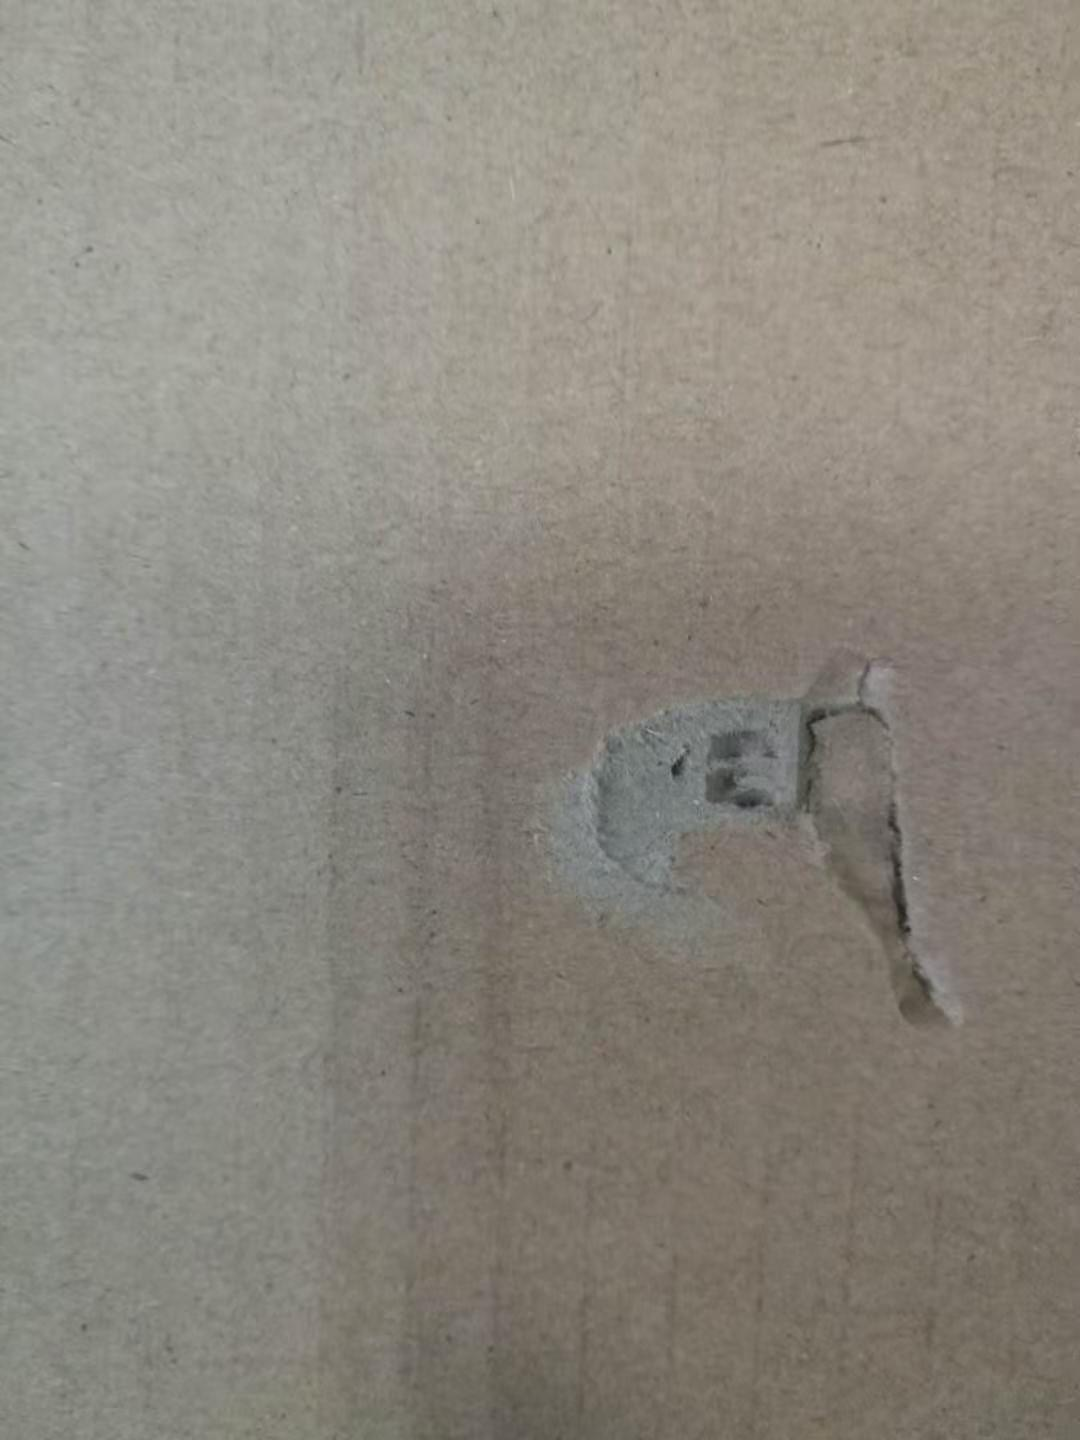defect: (503, 610, 999, 1071)
